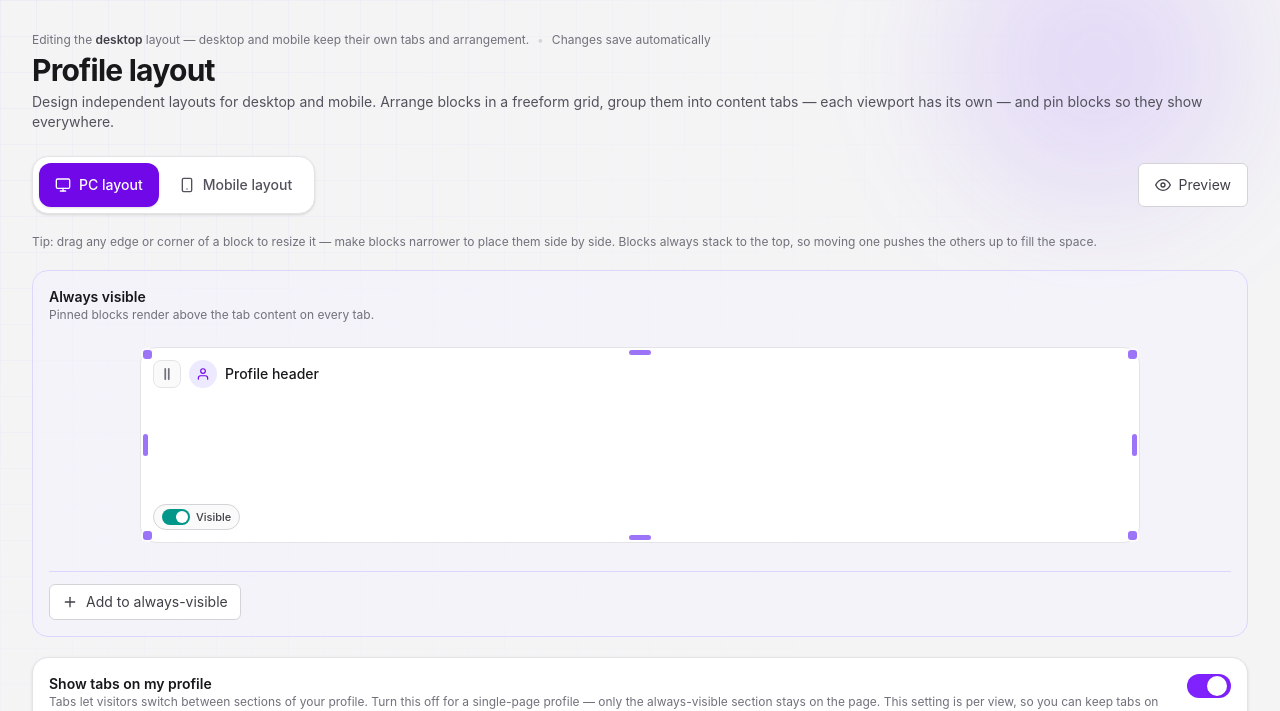
Test: ProfileLayoutPage — the live preview modal › closes from its own close button
Click the button "Preview": click(1193, 185) [1138,163,1248,207]
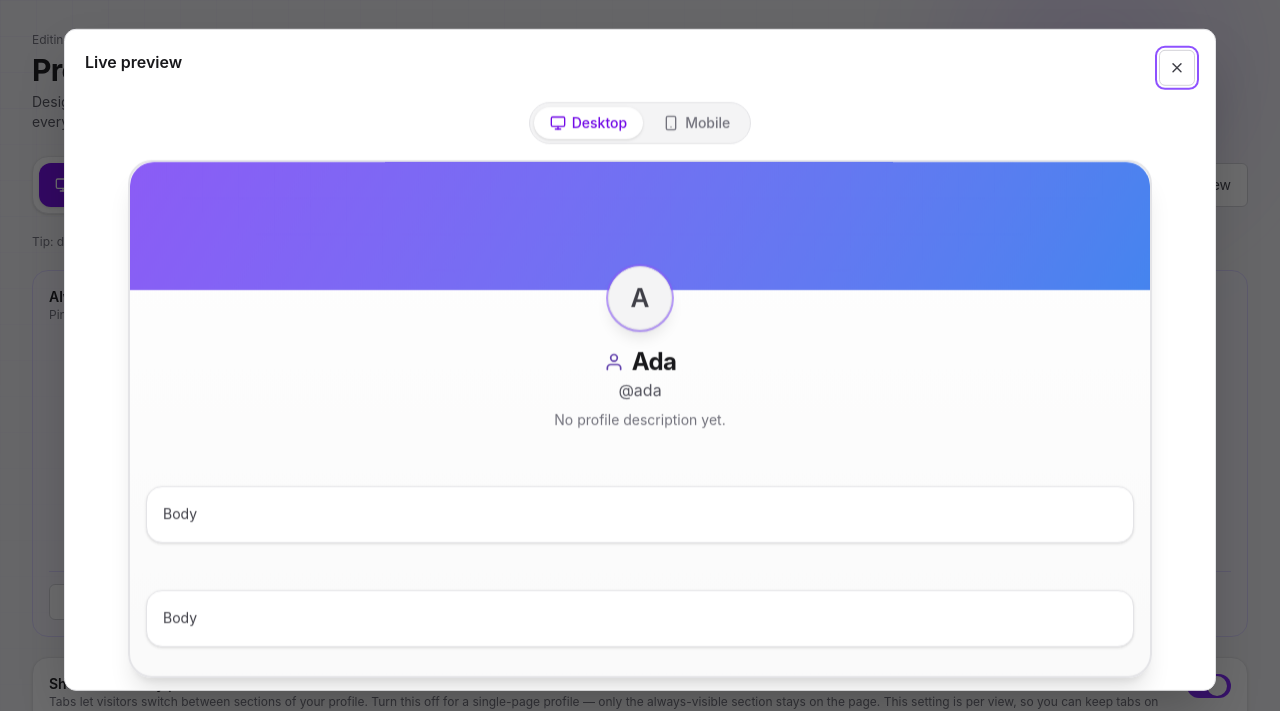
Click the button named "Close": click(1177, 68) [1159,50,1195,86]
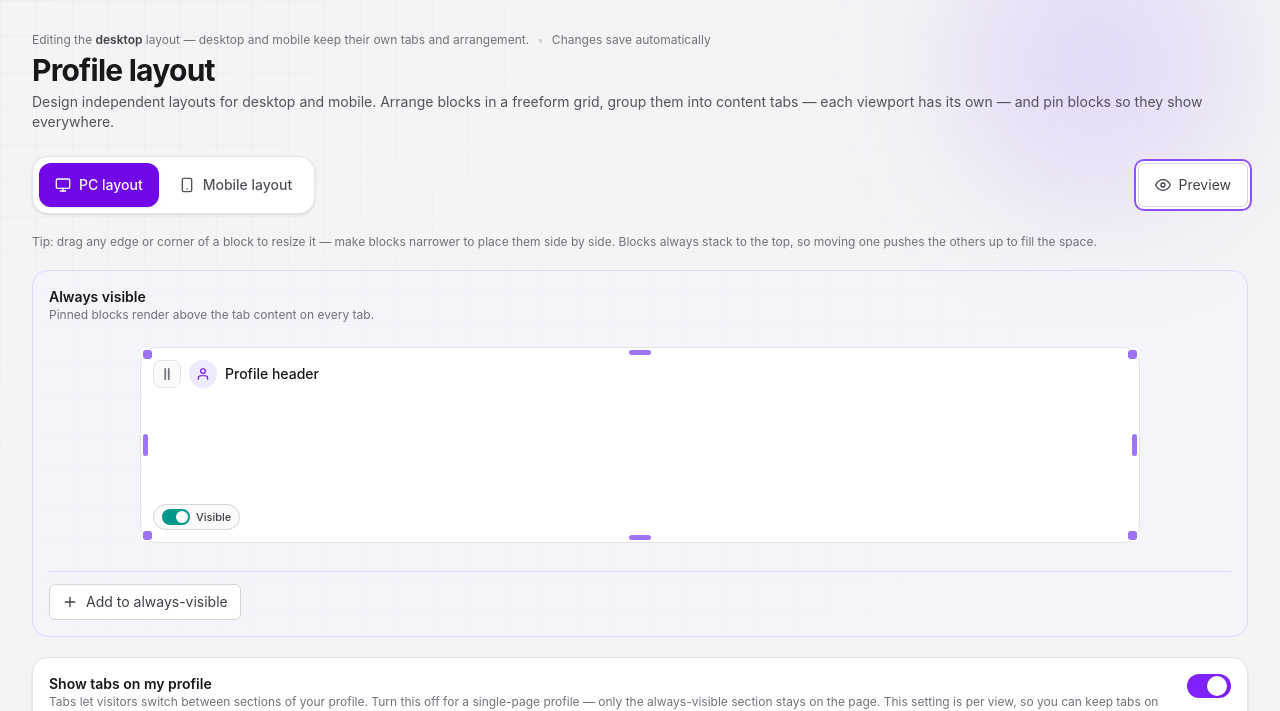
Result: the dialog is gone
